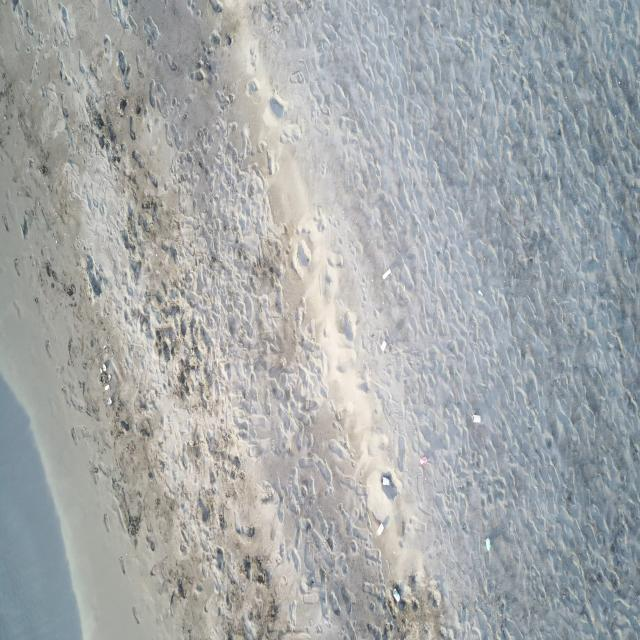tin-and-aluminum-cans: (381, 475, 391, 488), (382, 270, 392, 282), (392, 588, 400, 602), (377, 522, 385, 536), (472, 414, 482, 425), (419, 456, 429, 466), (380, 340, 388, 352), (486, 538, 492, 552)
